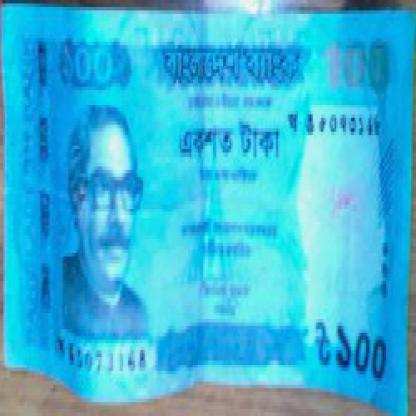one hundred taka: (318, 35, 396, 100), (333, 315, 391, 385), (57, 35, 119, 94)
